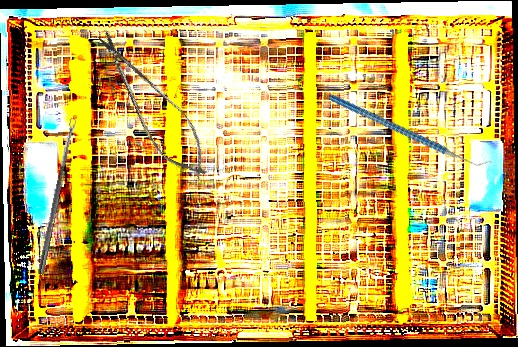Chopper: (328, 48, 493, 212)
Micro Scissor: (81, 20, 223, 191)
Surgical Spoon: (37, 118, 78, 275)
